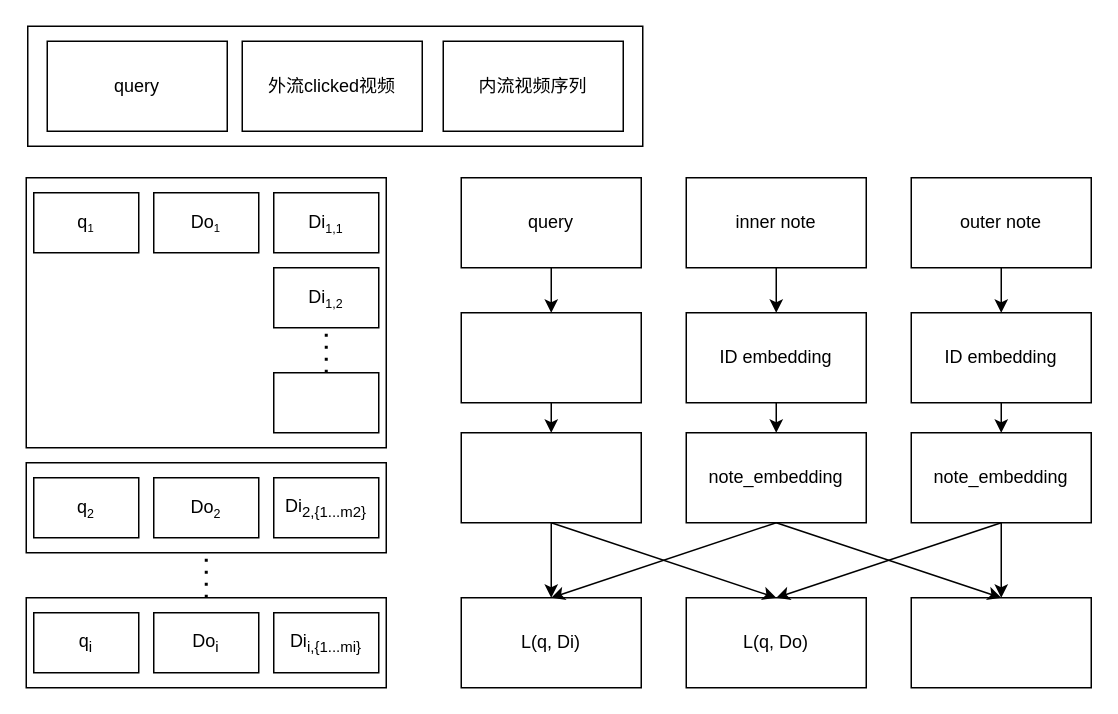
This 1118x714 diagram has some shape labels left out. The shapes that lost their labels are listed below. From the top down, each one's centre as x and y in pixels, then its label:
At (x=550, y=357): "textCNN".
At (x=325, y=402): "Di 1,m".
At (x=550, y=477): "query_embedding".
At (x=1000, y=642): "L(Do, Di)".
